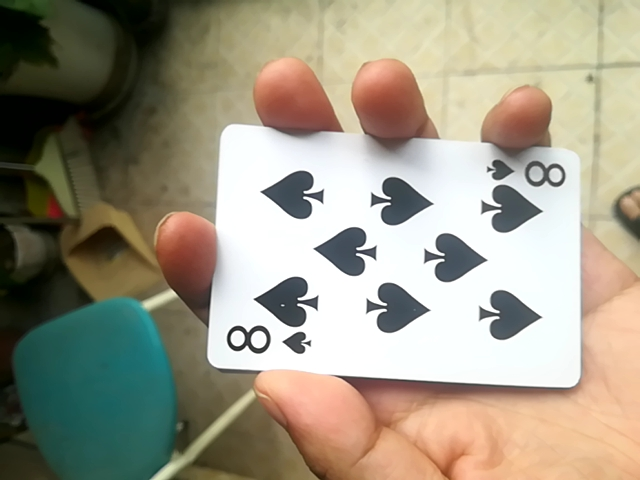ht 8: (201, 126, 580, 394)
